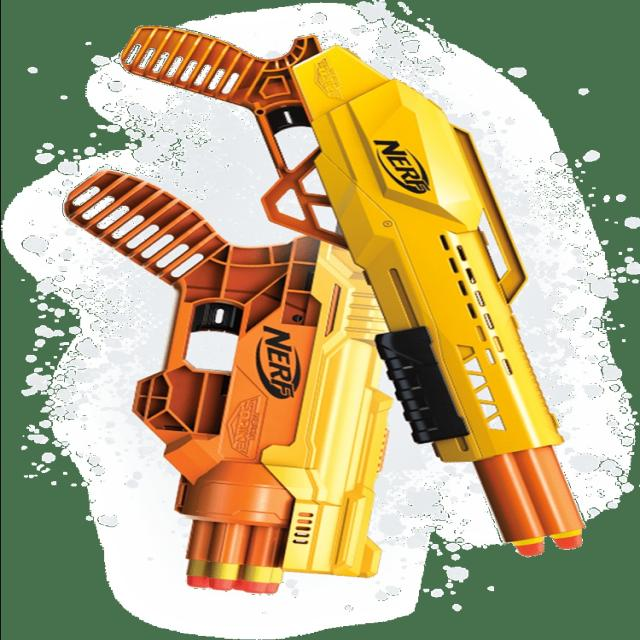Nerf gun: (114, 21, 586, 558), (57, 166, 399, 596)
